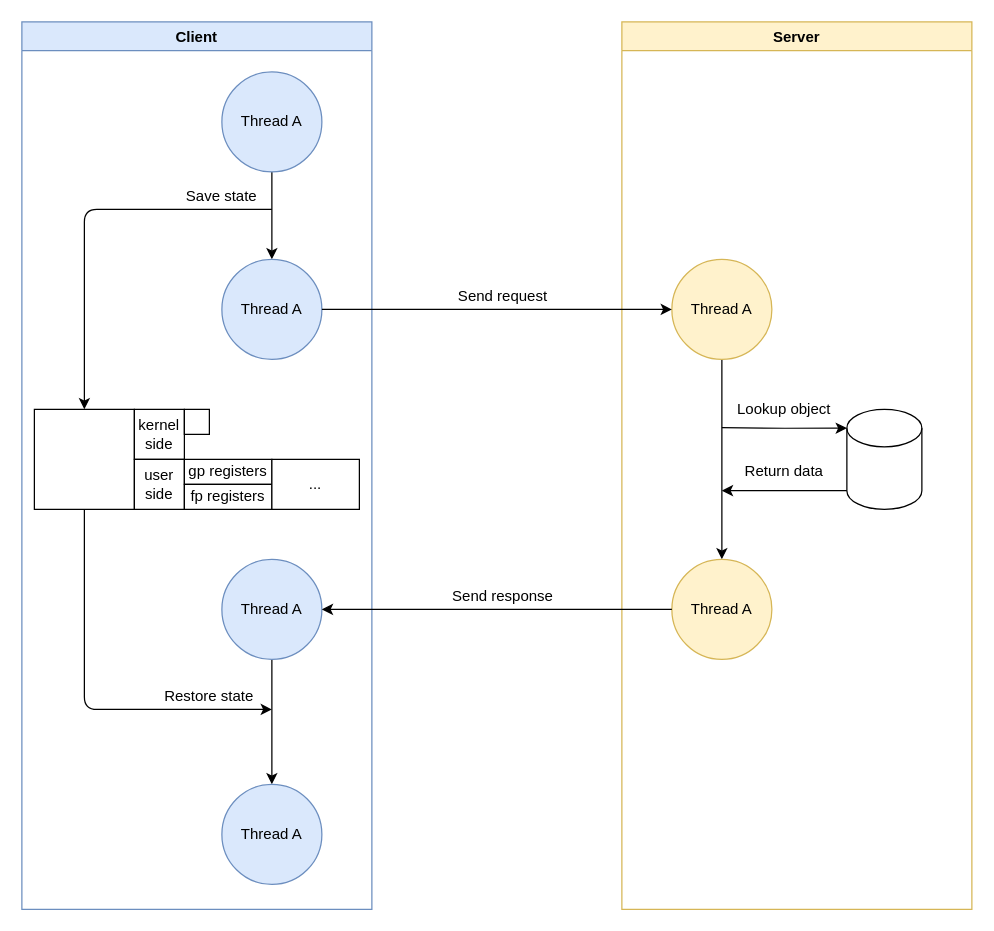
Image size: 994x931. Some labels were removed from this diagram. The shapes that lost their labels are listed below. From the top down, each one's centre as x and y in pixels, then its label:
At point (196, 421): "pc".
At point (83, 458): "Checkpoint".
